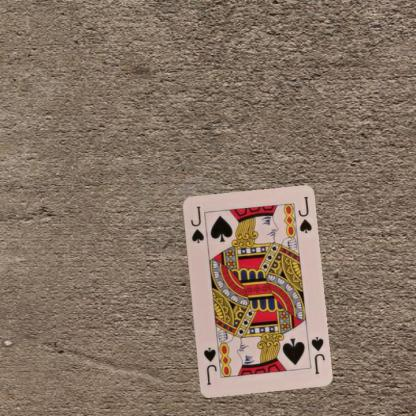Js: (308, 334, 326, 375), (188, 204, 205, 244)
